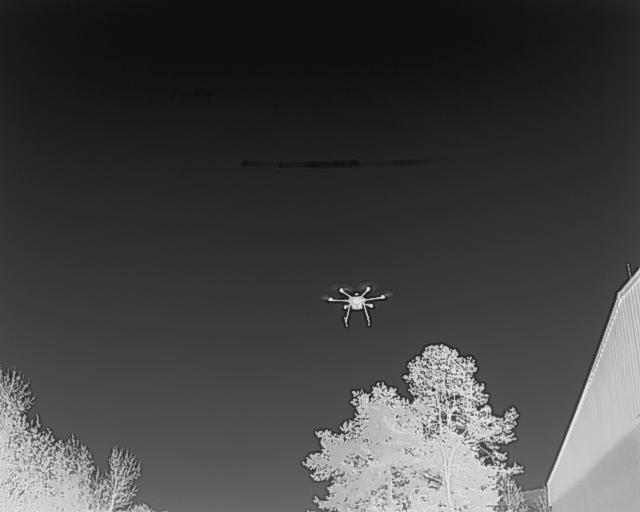drone: (324, 277, 392, 333)
